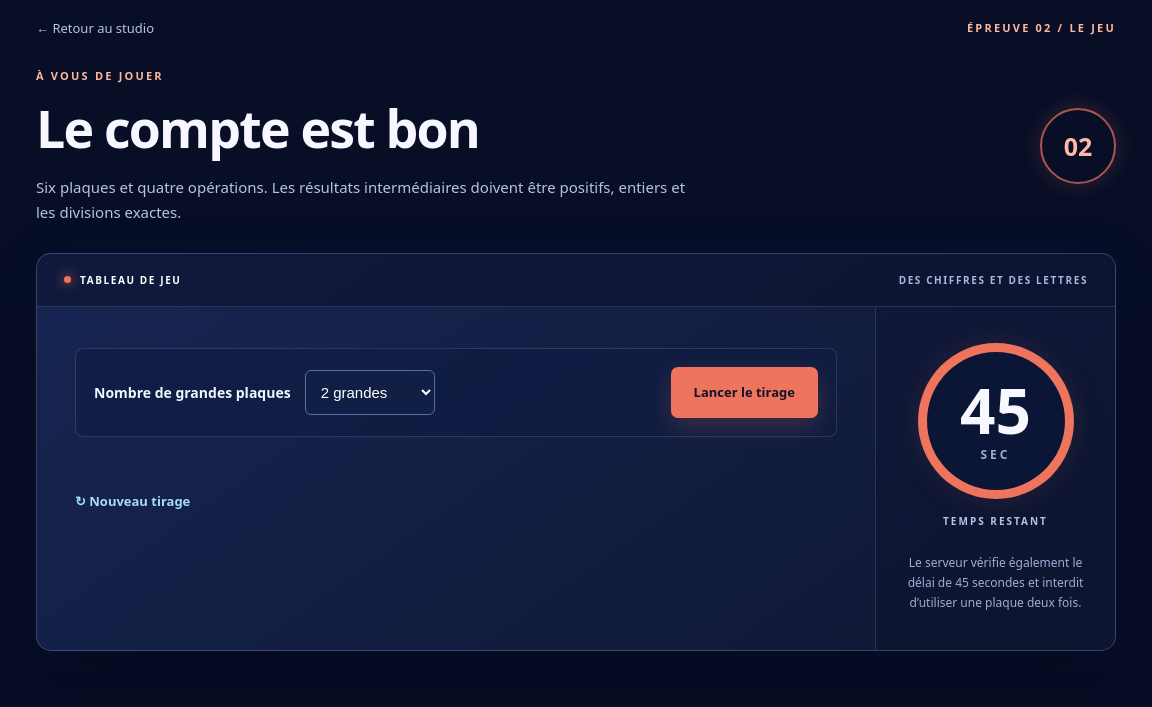
backend alone awards scores and reveals the numerical best solution
The width and height of the screenshot is (1152, 707).
Later steps or results of the test are not shown.
Click the button "Lancer le tirage" at (744, 392), box [671, 367, 818, 418]
(page scrolled)
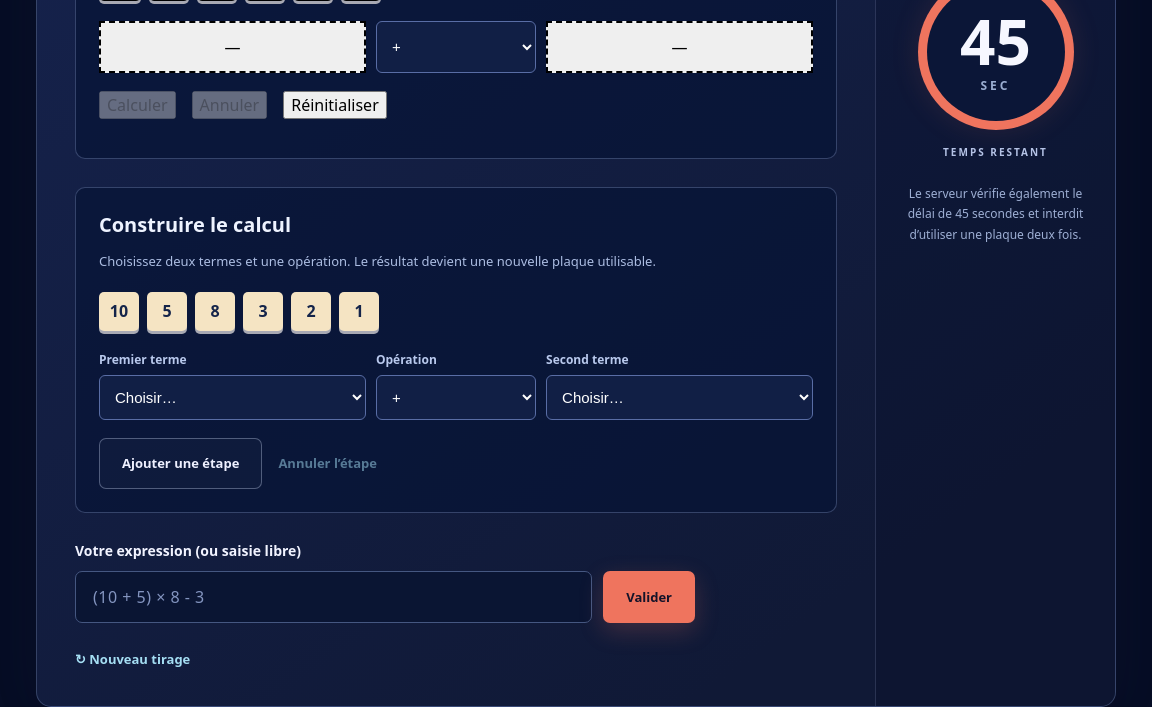
Expected: the field labelled "Votre expression (ou saisie libre)" is shown, [75, 571, 592, 623]
